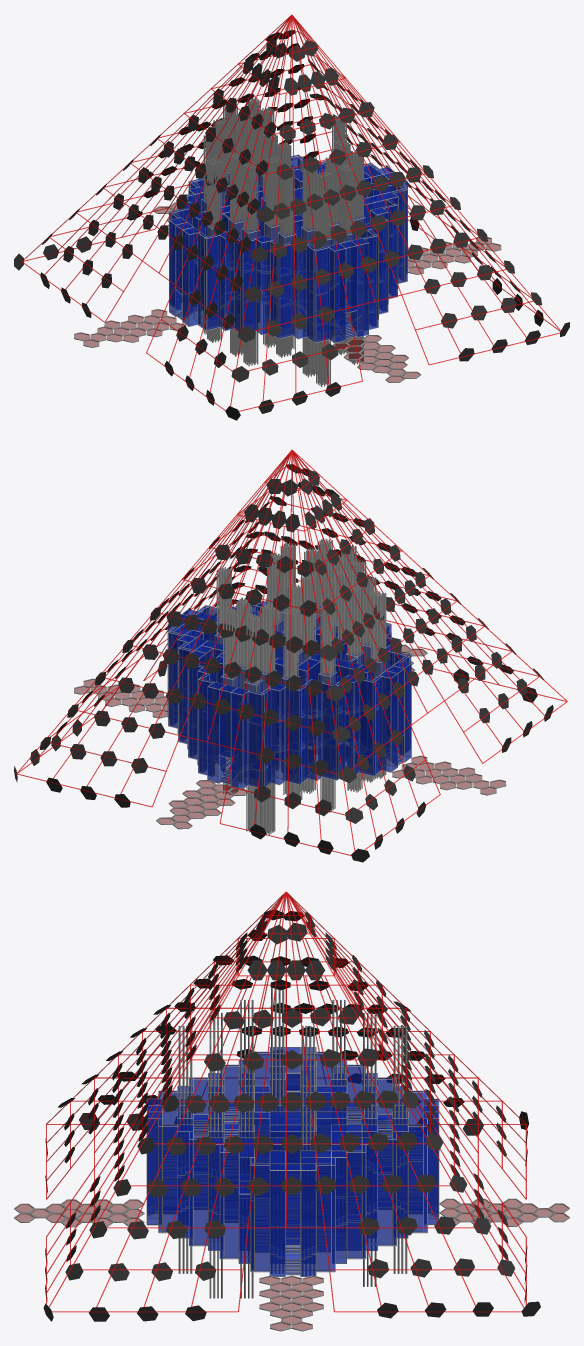
Rendered from uploads_files_229430__VRPYRAMID (1).FBX.
3 renders of one model, top to bottom at view 1: azimuth 30°, elevation 25°; view 2: azimuth 150°, elevation 25°; view 3: azimuth 270°, elevation 25°, orthographic. The views are drawn at different scales.
Parts seen in each view (by area): view 1: HEXSINGLE001, MAINBUILD_GLASSONLY!, PYRAWIRE, wires, mainbuild, HEXBRIDGE2, edge_detect; view 2: HEXSINGLE001, MAINBUILD_GLASSONLY!, PYRAWIRE, wires, mainbuild, HEXBRIDGE2, edge_detect; view 3: MAINBUILD_GLASSONLY!, HEXSINGLE001, PYRAWIRE, mainbuild, wires, HEXBRIDGE2, edge_detect.
Boxes of the visible parts, box(x1,y1,x2,y2) form: HEXSINGLE001: box(14, 30, 569, 420); MAINBUILD_GLASSONLY!: box(169, 155, 407, 342); PYRAWIRE: box(21, 14, 562, 411); wires: box(203, 97, 363, 386); mainbuild: box(169, 154, 407, 343); HEXBRIDGE2: box(75, 203, 500, 381); edge_detect: box(74, 202, 501, 382); HEXSINGLE001: box(14, 464, 553, 862); MAINBUILD_GLASSONLY!: box(168, 601, 411, 788); PYRAWIRE: box(16, 449, 567, 856); wires: box(216, 538, 386, 835); mainbuild: box(167, 601, 411, 788); HEXBRIDGE2: box(75, 645, 505, 827); edge_detect: box(74, 644, 506, 829); MAINBUILD_GLASSONLY!: box(147, 1047, 438, 1276); HEXSINGLE001: box(43, 910, 540, 1321); PYRAWIRE: box(46, 891, 526, 1312); mainbuild: box(146, 1047, 439, 1276); wires: box(178, 987, 407, 1298); HEXBRIDGE2: box(16, 1199, 567, 1329); edge_detect: box(14, 1198, 569, 1331).
Size of the model in its own units: 2315 by 1837 by 2317.
